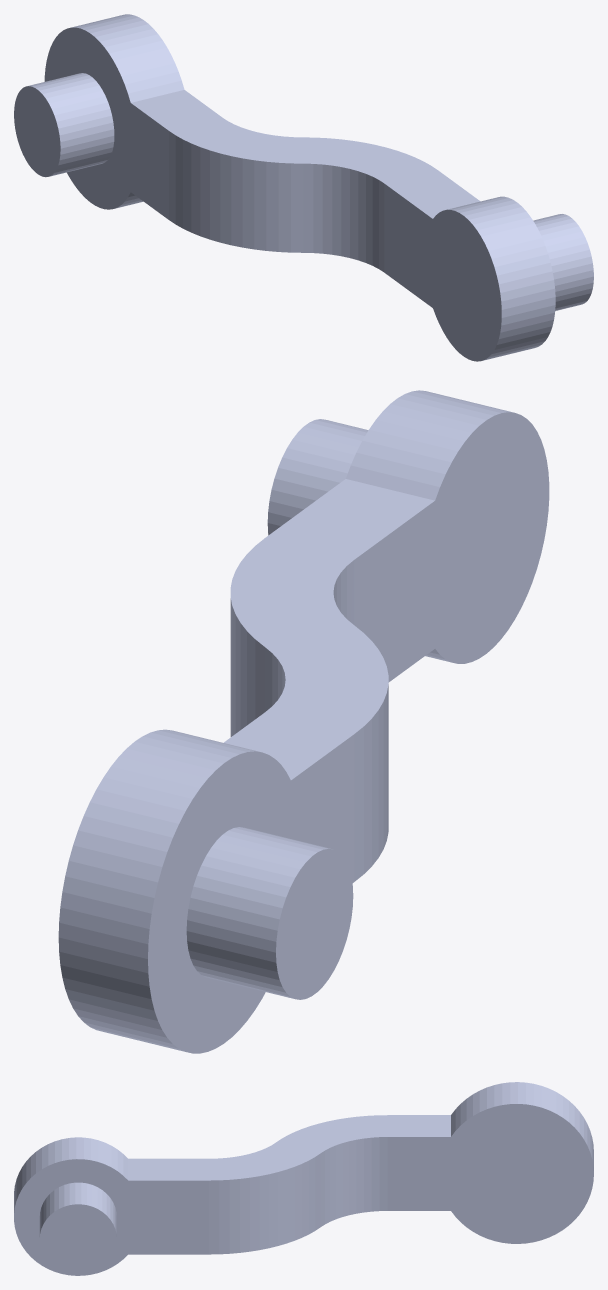
File: Pieza_ResorteV1.3.dae
3 views of the same model, one above another, from view 1: azimuth 30°, elevation 25°; view 2: azimuth 150°, elevation 25°; view 3: azimuth 270°, elevation 25° (orthographic). The views are drawn at different scales.
Visible parts, largest first — view 1: ID2; view 2: ID2; view 3: ID2.
Boxes of the visible parts, x1,y1,x2,y2 form: ID2: (14, 14, 593, 361); ID2: (58, 390, 549, 1053); ID2: (14, 1082, 593, 1275).
Bounding box in the file's own units: 0.05 × 0.1125 × 0.03.
